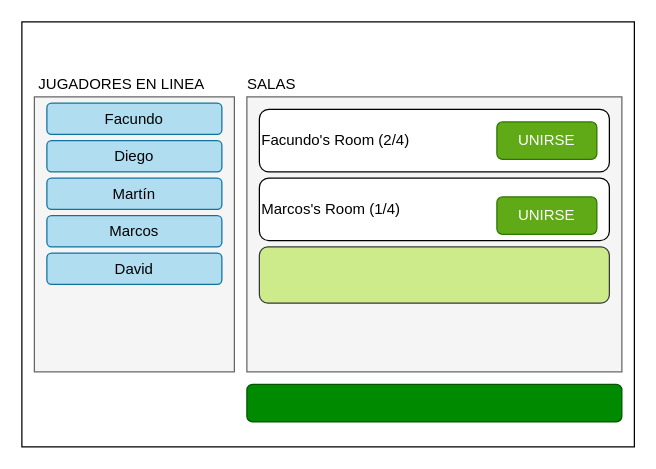
The diagram is 656 pixels wide and 469 high, and some of its shapes have lost their labels. The shapes that lost their labels are listed below. From the top down, each one's centre as x and y in pixels, then its label:
At (x=433, y=274): "Julieta's Room (3/4)".
At (x=434, y=402): "CREAR NUEVA SALA".
